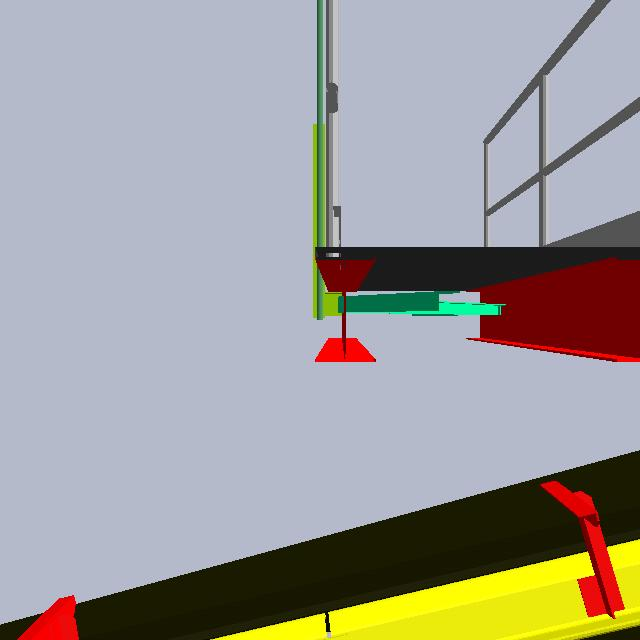Poste: (311, 1, 324, 322)
Soporte: (306, 115, 349, 333)
